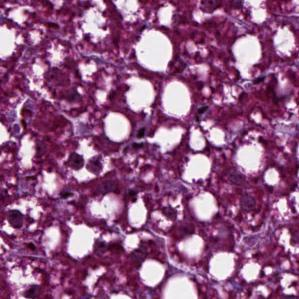steatosis: (134, 24, 176, 71), (230, 34, 269, 80), (160, 78, 198, 118), (66, 221, 100, 264), (98, 109, 136, 145), (179, 153, 214, 183), (188, 193, 221, 222), (137, 260, 166, 283), (236, 141, 239, 144)
